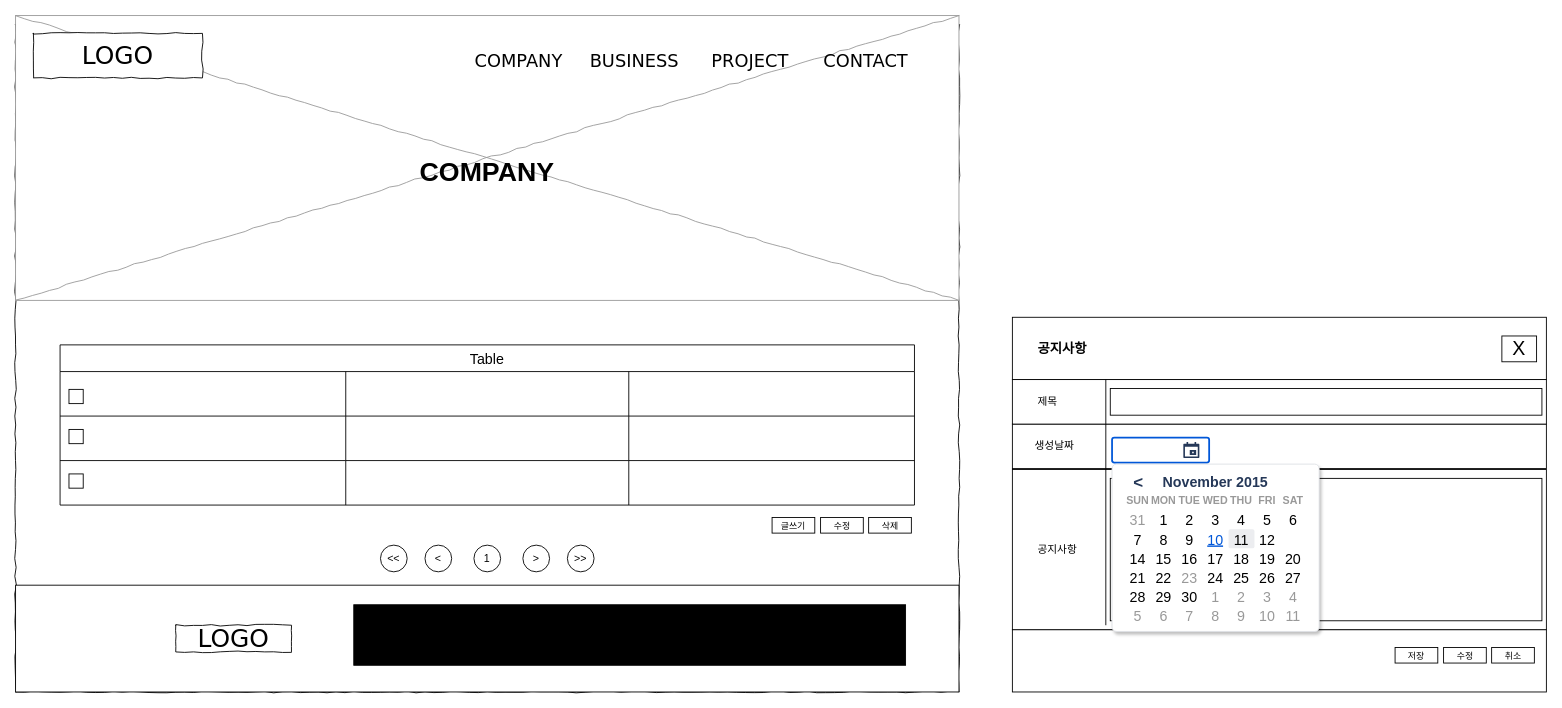
Some shapes in this 1562 by 708 pixel diagram are drawn without their labels. The centre of each missing label's shape, as x and y in pixels:
"TEXT AREA" belongs at pixel 629 634.
"시작일" belongs at pixel 1160 449.
